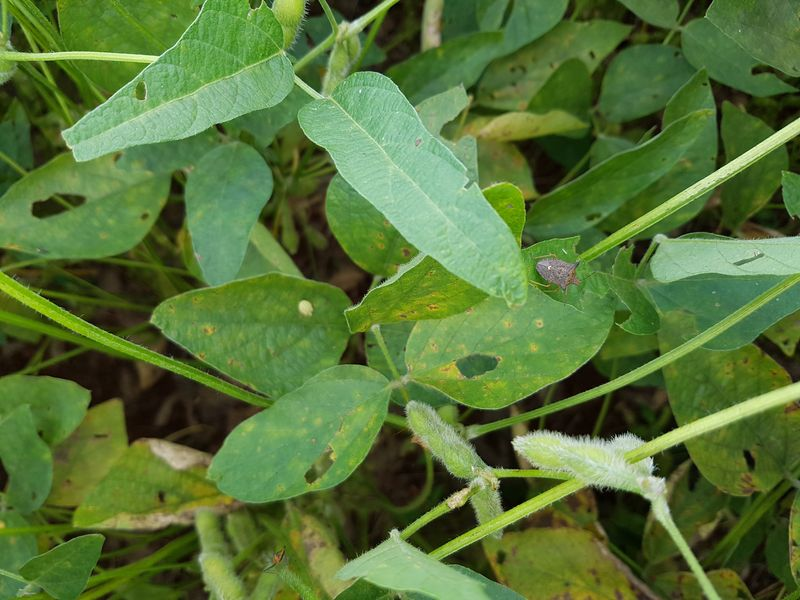Euschistus_heros_adulto: (523, 249, 588, 300)
